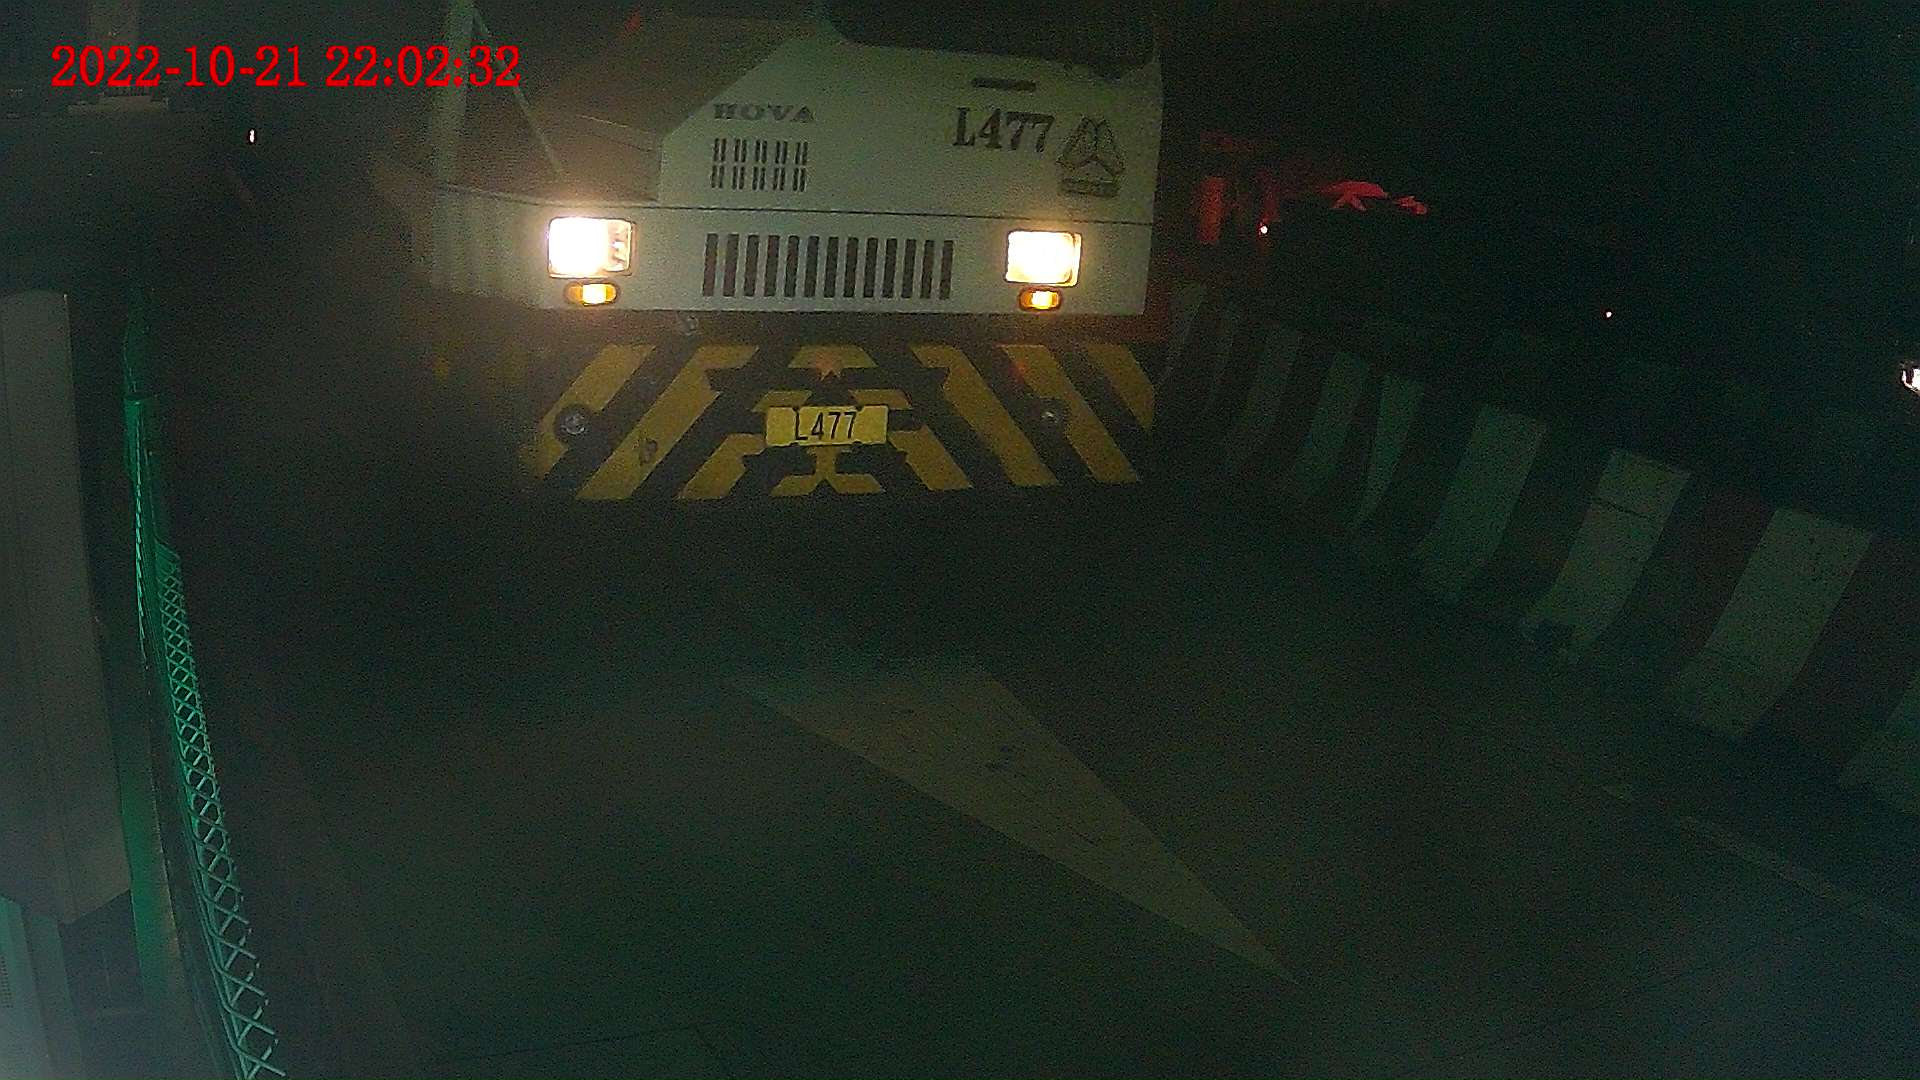head: (320, 1, 1163, 528)
plate: (770, 402, 891, 445)
